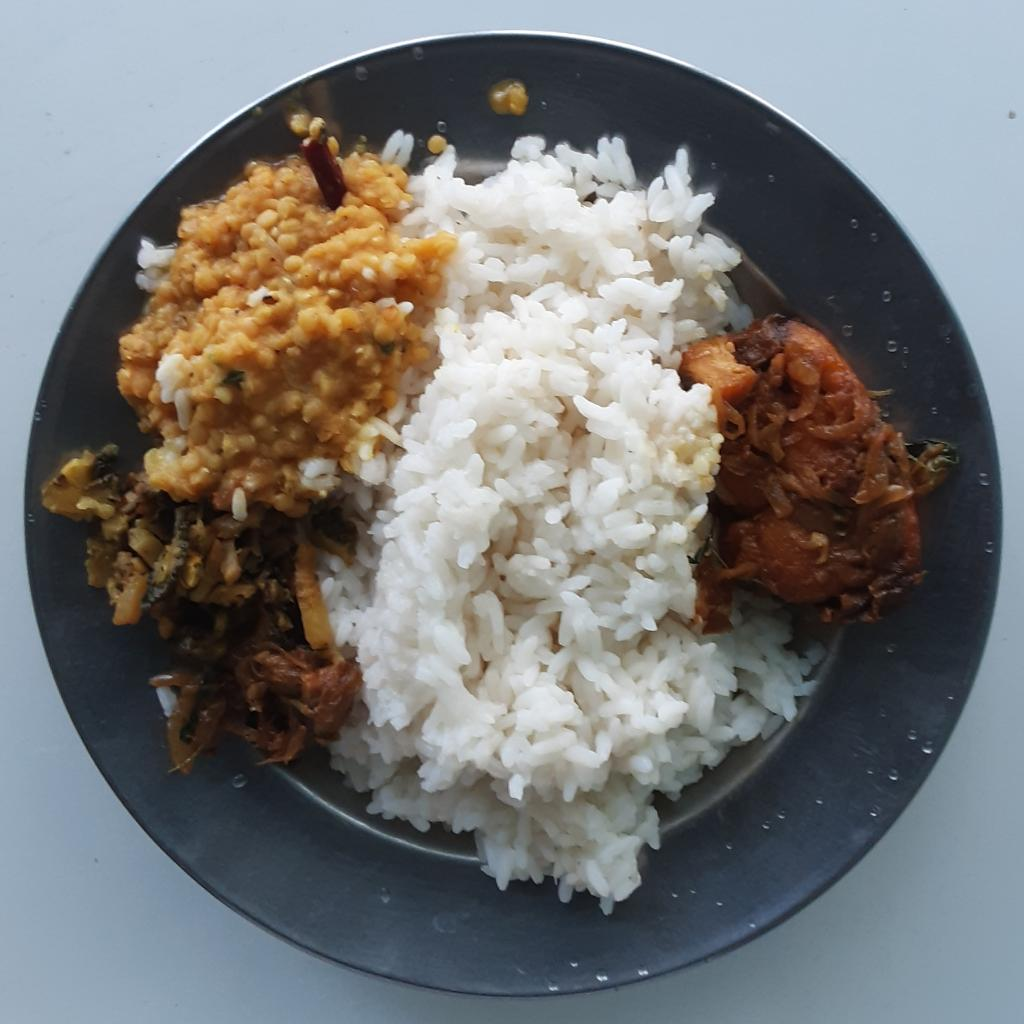daal: (117, 107, 456, 513)
fish: (678, 314, 966, 633)
korola-vaji: (37, 442, 358, 771)
rice: (298, 124, 819, 917)
